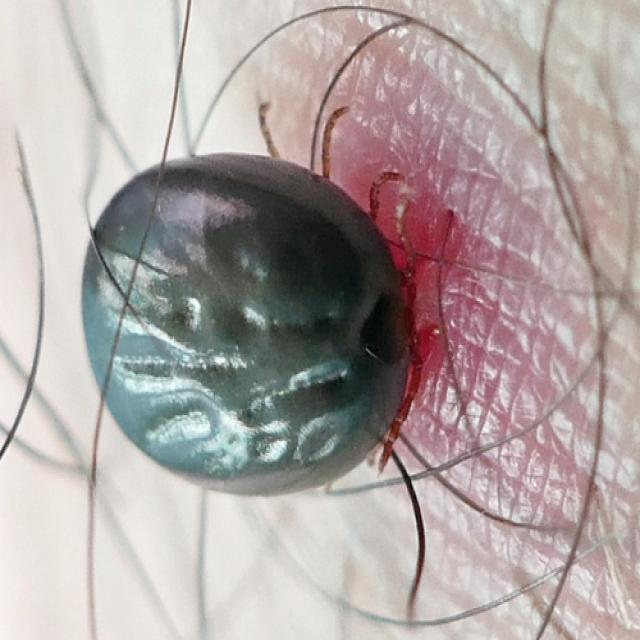Rhipicephalus Sanguineus-F-Fed: (84, 93, 425, 496)
